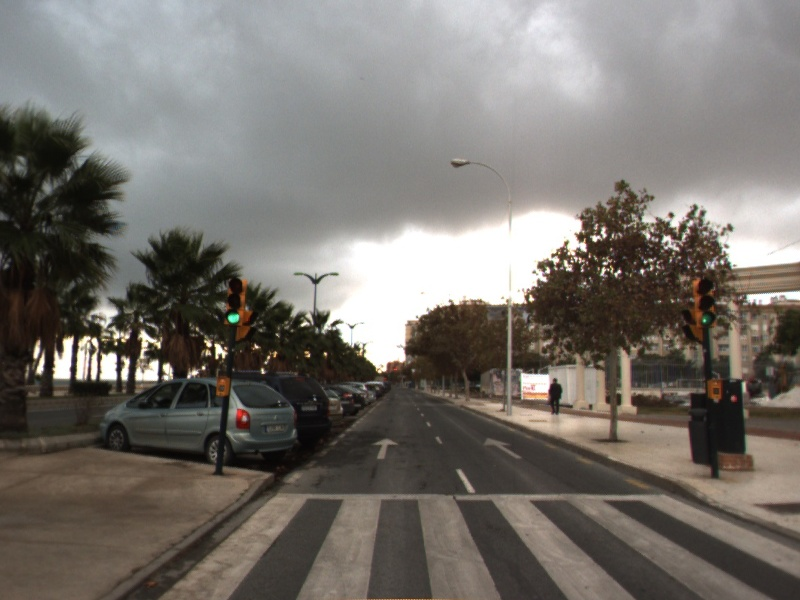STRAIGHT: (481, 435, 524, 461), (369, 436, 400, 461)
